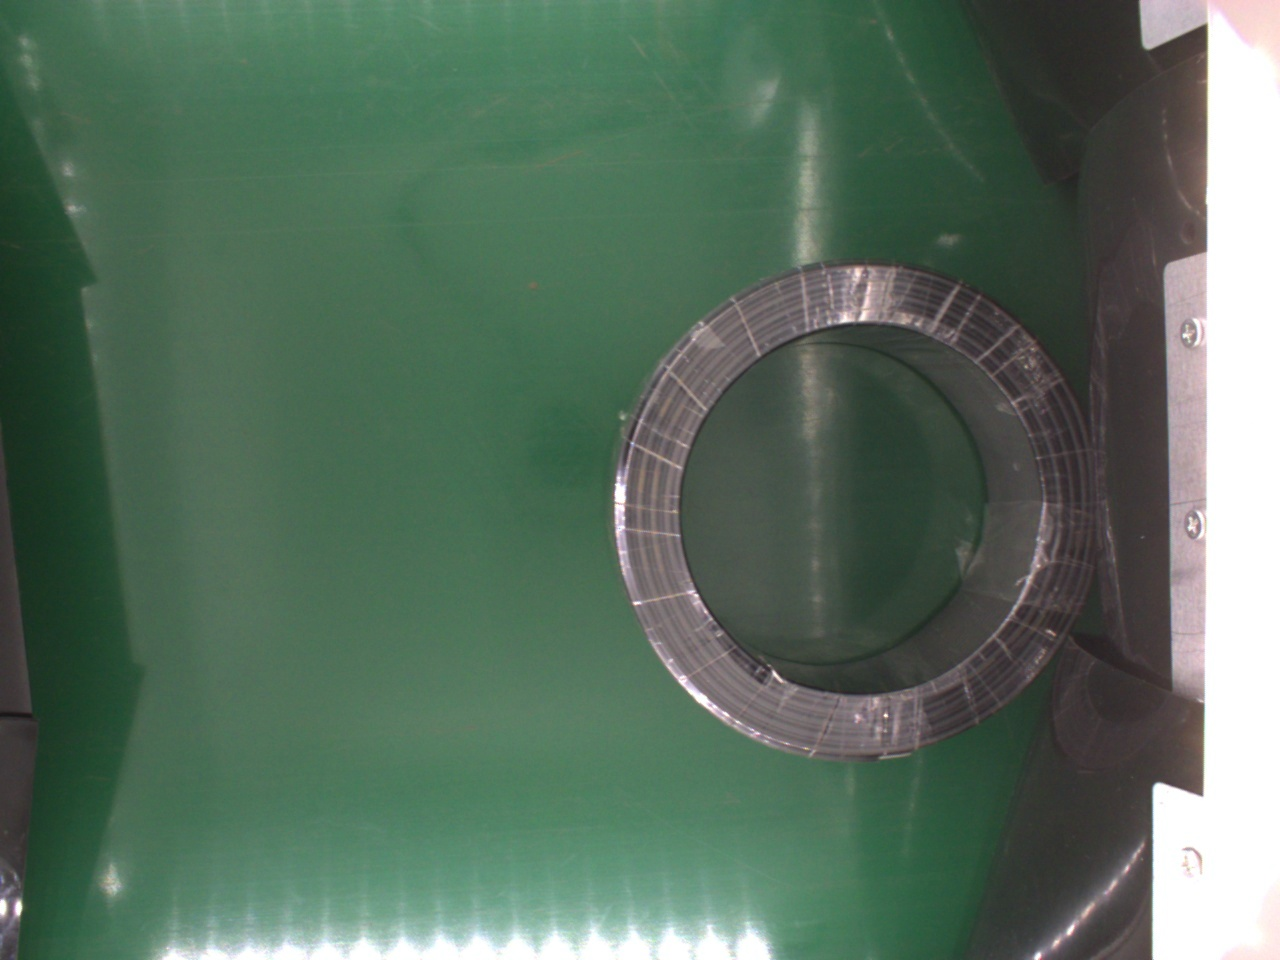black: (609, 263, 1103, 760)
